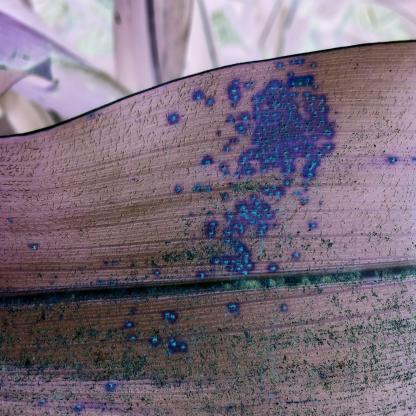corn rust leaf: (0, 33, 416, 416)
